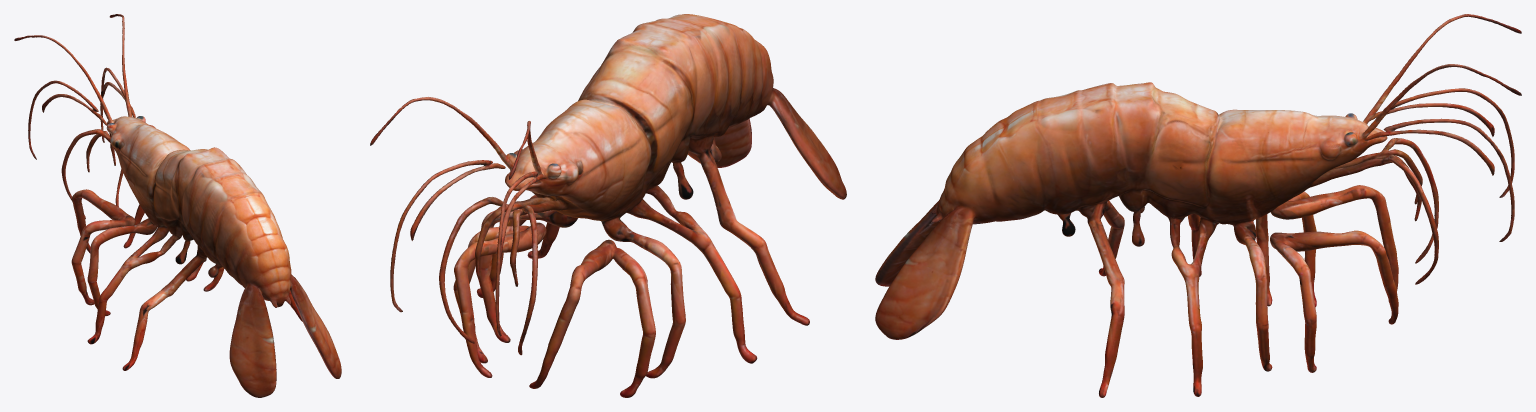
The model's file is Camaron3d.glb.
3 renders of one model, left to right at view 1: azimuth 30°, elevation 25°; view 2: azimuth 150°, elevation 25°; view 3: azimuth 270°, elevation 25°, orthographic. The views are drawn at different scales.
Bounding box in the file's own units: 0.9268 × 1.03 × 2.02.
1 material, 1 textured.
